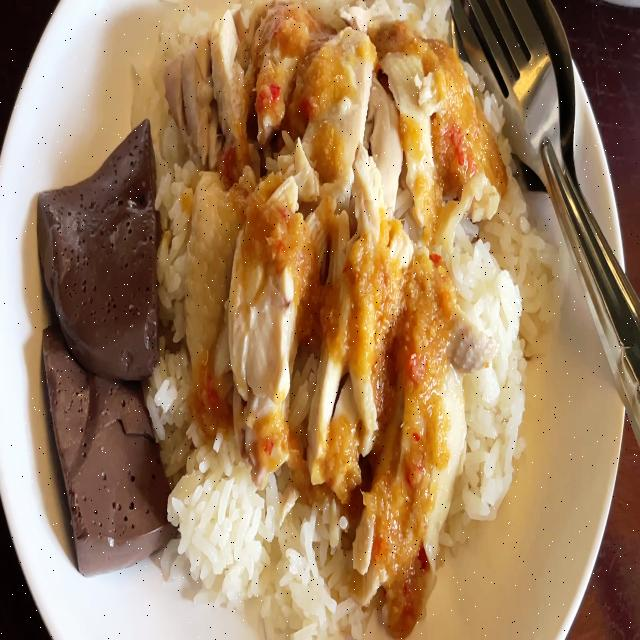boiled_chicken: (169, 2, 498, 594)
boiled_chicken_blood_jelly: (37, 316, 178, 572), (33, 113, 160, 378)
chicken_rice: (24, 0, 558, 640)
